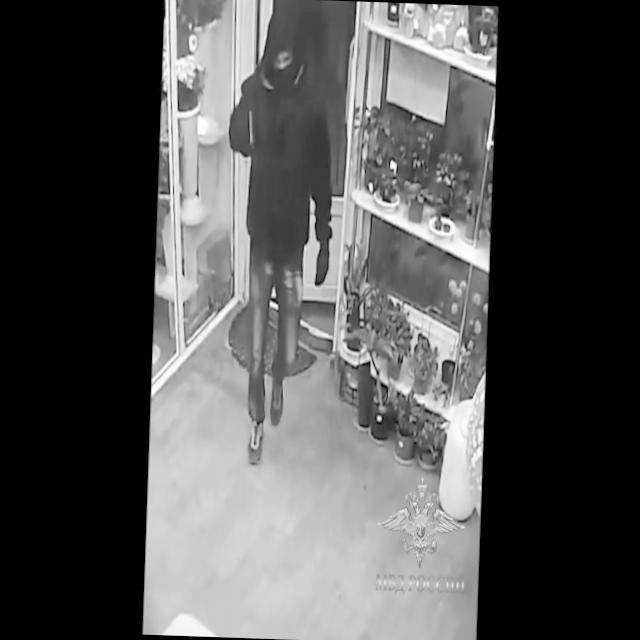gun: (242, 106, 258, 152)
person with a gun: (219, 11, 340, 468)
